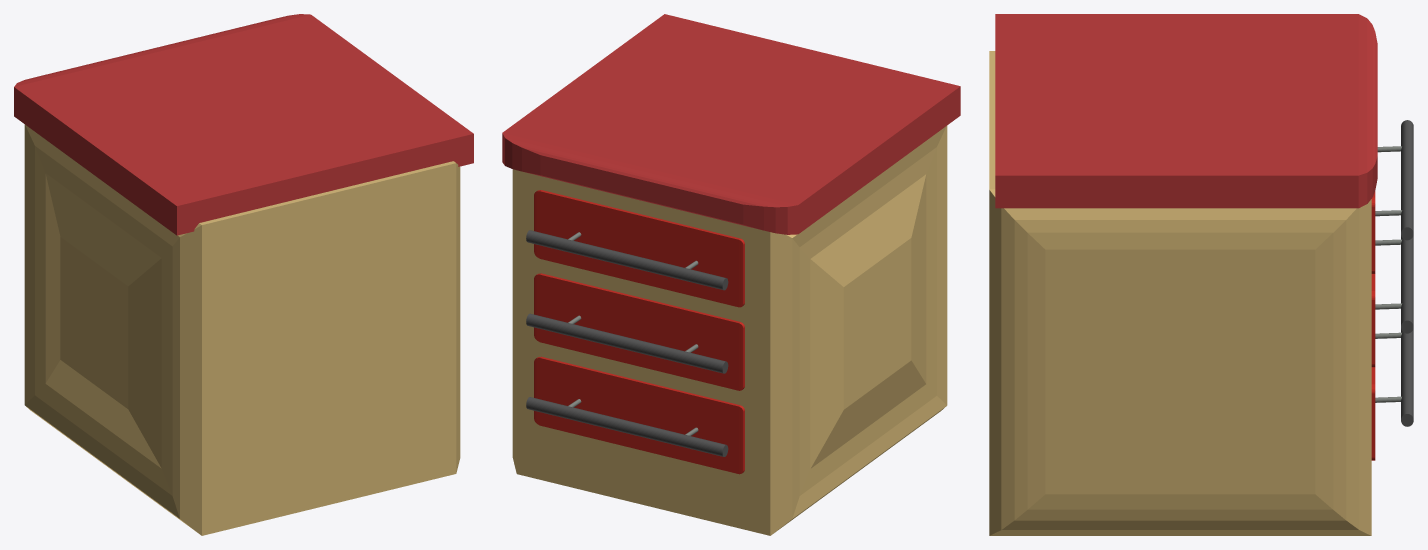
File: mueble.fbx
The picture shows the model from 3 angles, left to right: view 1: azimuth 30°, elevation 25°; view 2: azimuth 150°, elevation 25°; view 3: azimuth 270°, elevation 25°; orthographic projection. The views are drawn at different scales.
Parts seen in each view (by area): view 1: Cube, Cube.001; view 2: Cube, Cube.001, Cylinder.002, Cylinder.000, Cylinder.001; view 3: Cube, Cube.001, Cylinder.002, Cylinder.001, Cylinder.000.
Boxes of the visible parts, left/top/right/bottom form: Cube: left=24, top=124, right=460, bottom=535; Cube.001: left=14, top=14, right=473, bottom=235; Cube: left=512, top=125, right=947, bottom=535; Cube.001: left=502, top=14, right=960, bottom=234; Cylinder.002: left=526, top=190, right=744, bottom=307; Cylinder.000: left=526, top=273, right=744, bottom=390; Cylinder.001: left=526, top=356, right=744, bottom=474; Cube: left=989, top=51, right=1371, bottom=535; Cube.001: left=995, top=14, right=1377, bottom=208; Cylinder.002: left=1371, top=120, right=1413, bottom=273; Cylinder.001: left=1371, top=328, right=1413, bottom=460; Cylinder.000: left=1371, top=235, right=1413, bottom=367.
Size of the model in its own units: 200 by 214 by 222.
